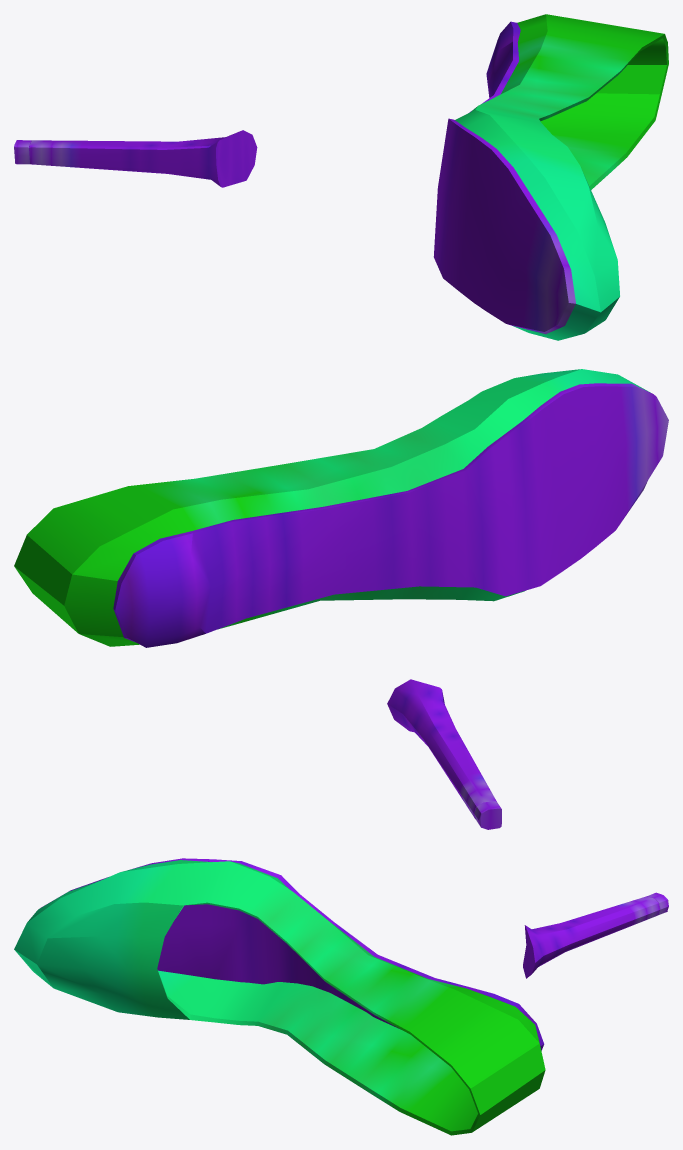
File: brokenShoe.glb
The picture shows the model from 3 angles, top to bottom: view 1: azimuth 30°, elevation 25°; view 2: azimuth 150°, elevation 25°; view 3: azimuth 270°, elevation 25°; orthographic projection. The views are drawn at different scales.
Parts seen in each view (by area): view 1: heel.001; view 2: heel.001; view 3: heel.001.
Part boxes in pixels (x1=…): heel.001: x1=14, y1=14, x2=668, y2=340; heel.001: x1=14, y1=369, x2=668, y2=829; heel.001: x1=14, y1=858, x2=668, y2=1135.
Bounding box in the file's own units: 0.6925 × 0.2049 × 0.7999.
Materials: 1 (1 with a texture image).
